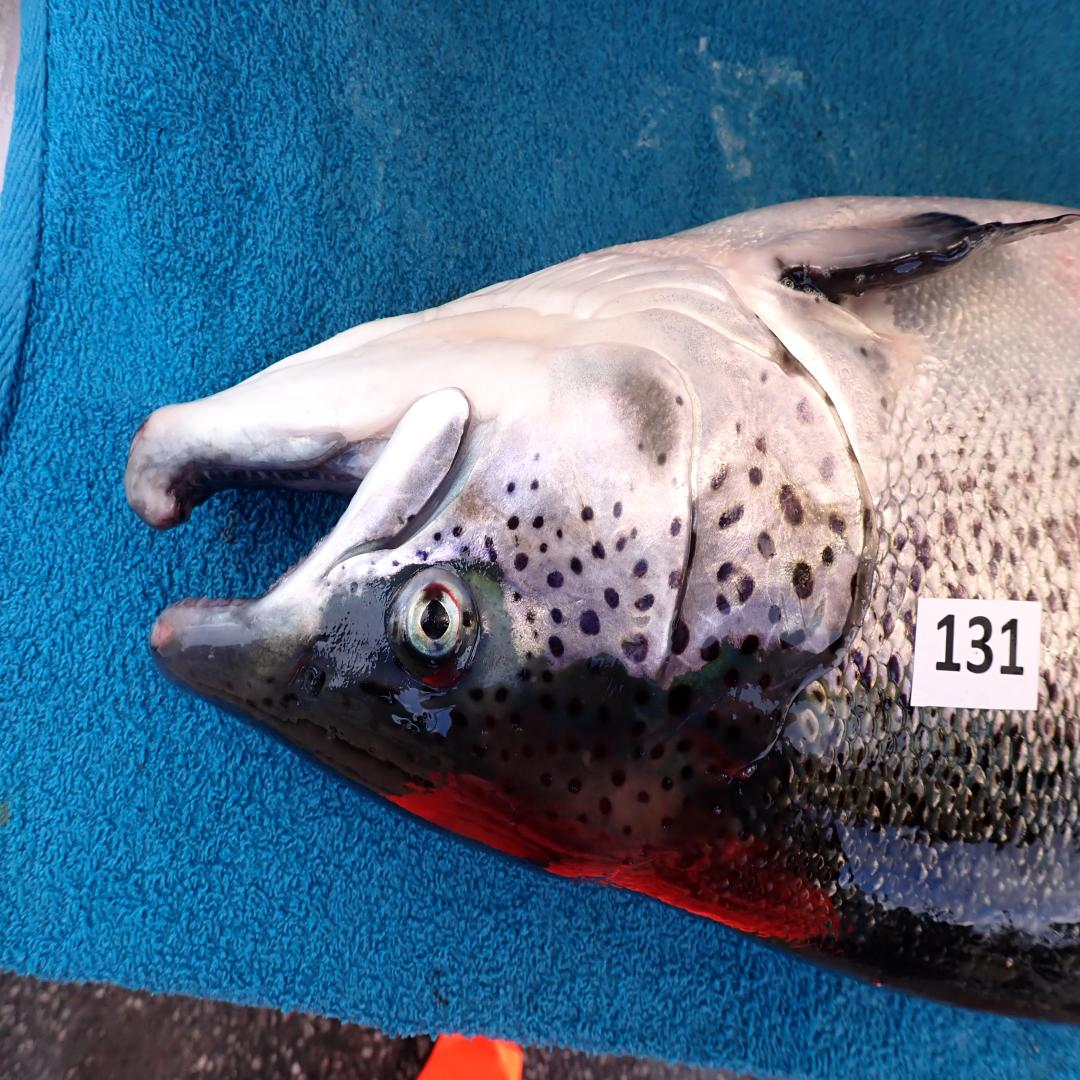roi: (467, 246, 867, 683)
